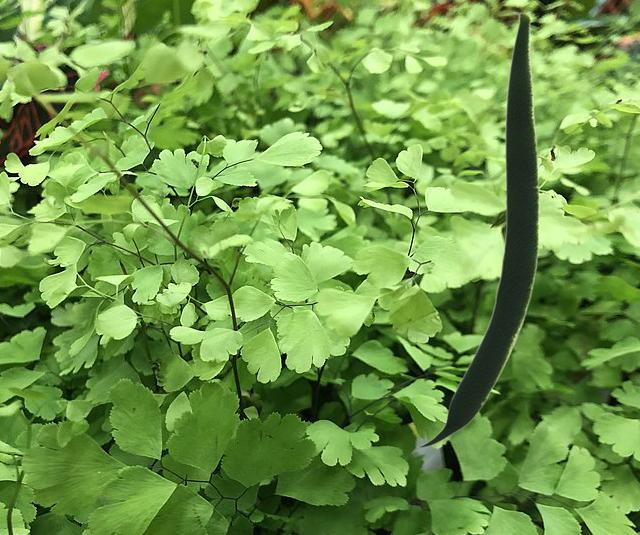french_bean: (417, 11, 538, 447)
